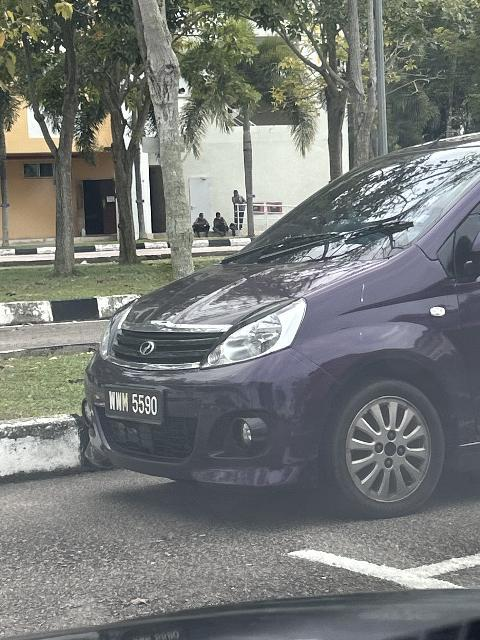License_Plate: (101, 386, 169, 426)
WWM5590: (101, 386, 169, 426)
car: (73, 120, 480, 516)
